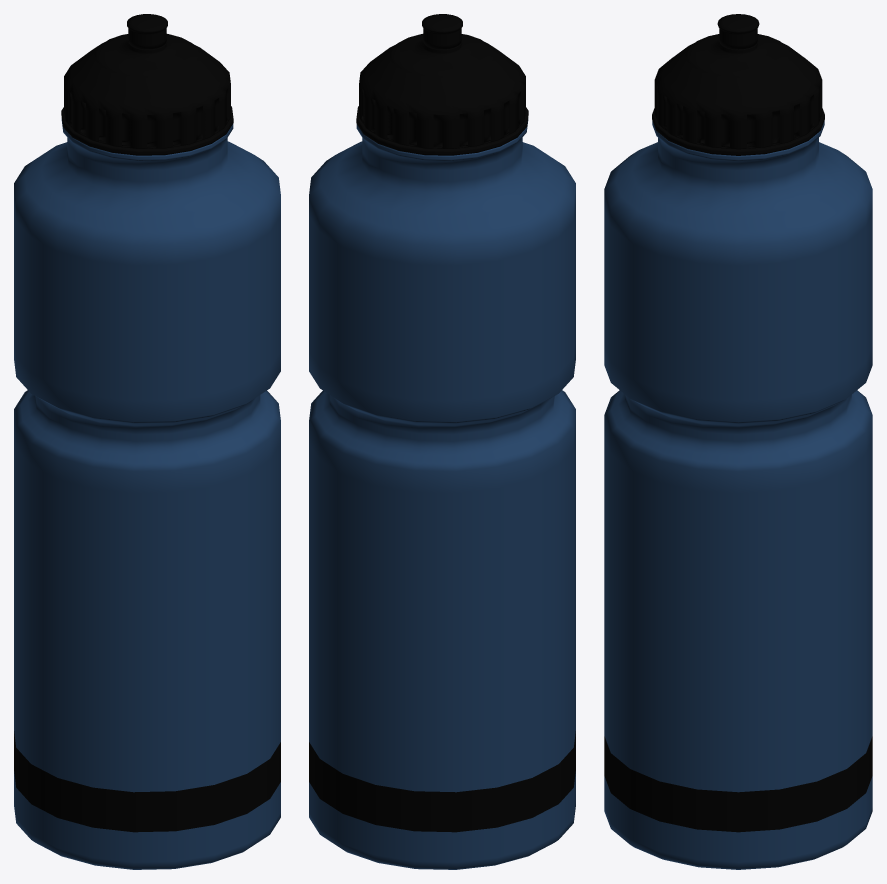
The model's file is 6_bottle.glb.
3 renders of one model, left to right at view 1: azimuth 30°, elevation 25°; view 2: azimuth 150°, elevation 25°; view 3: azimuth 270°, elevation 25°, orthographic.
Parts seen in each view (by area): view 1: Water_Bottle, Water_Bottle.001; view 2: Water_Bottle, Water_Bottle.001; view 3: Water_Bottle, Water_Bottle.001.
Boxes of the visible parts, x1,y1,x2,y2 form: Water_Bottle: (14, 118, 280, 869); Water_Bottle.001: (61, 14, 233, 155); Water_Bottle: (309, 118, 575, 869); Water_Bottle.001: (356, 14, 528, 155); Water_Bottle: (604, 121, 872, 869); Water_Bottle.001: (652, 14, 824, 155).
Size of the model in its own units: 0.11 by 0.3597 by 0.11.
